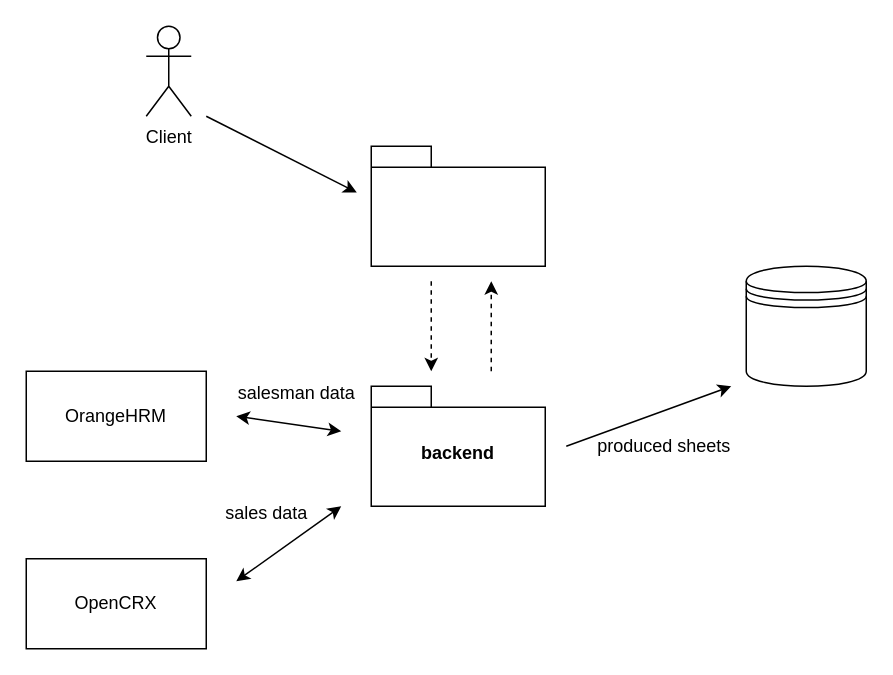
Image size: 893x675. Some labels were removed from this diagram. Here are the shapes that lost their labels. From the top down, the centre of each, then its label:
At (x=457, y=205): "frontend".
At (x=805, y=325): "DB".
